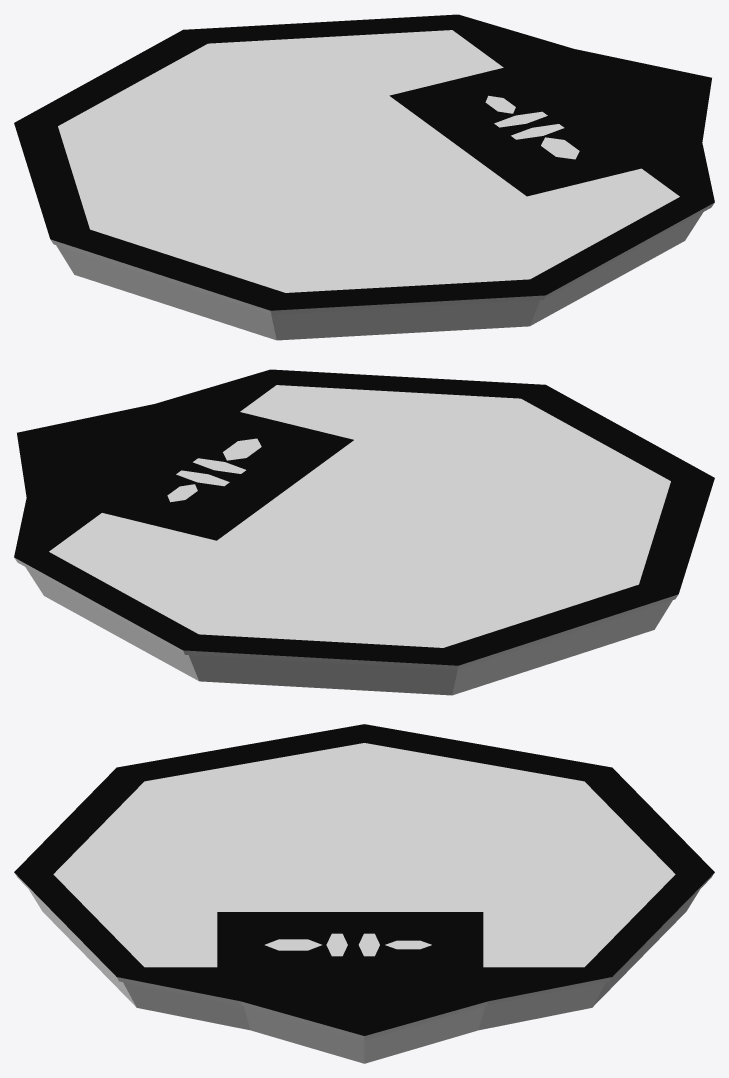
File: Ma_Pizza_2.fbx
3 renders of one model, top to bottom at view 1: azimuth 30°, elevation 25°; view 2: azimuth 150°, elevation 25°; view 3: azimuth 270°, elevation 25°, orthographic. The views are drawn at different scales.
Parts seen in each view (by area): view 1: Ma_Pizza_2; view 2: Ma_Pizza_2; view 3: Ma_Pizza_2.
Part boxes in pixels (left/top/right/bottom): Ma_Pizza_2: left=14, top=14, right=714, bottom=340; Ma_Pizza_2: left=14, top=369, right=714, bottom=695; Ma_Pizza_2: left=14, top=724, right=714, bottom=1063.
Bounding box in the file's own units: 447 × 425 × 28.27.
